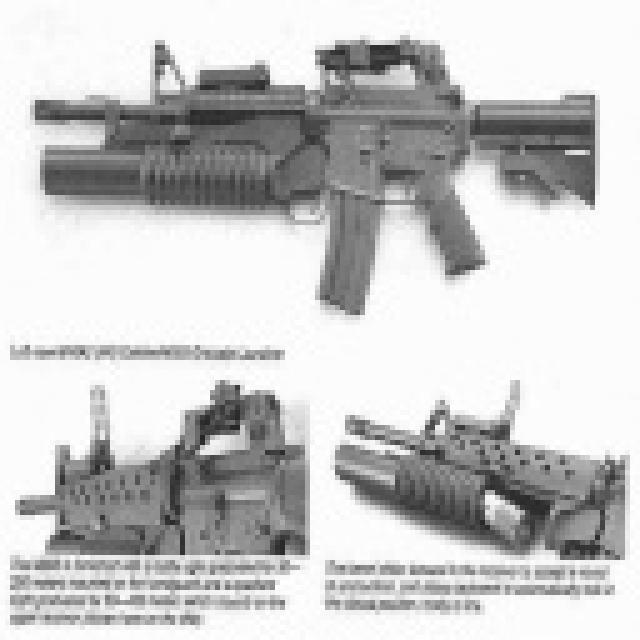Rifle: (26, 42, 582, 347), (355, 385, 640, 640), (2, 364, 324, 558)
